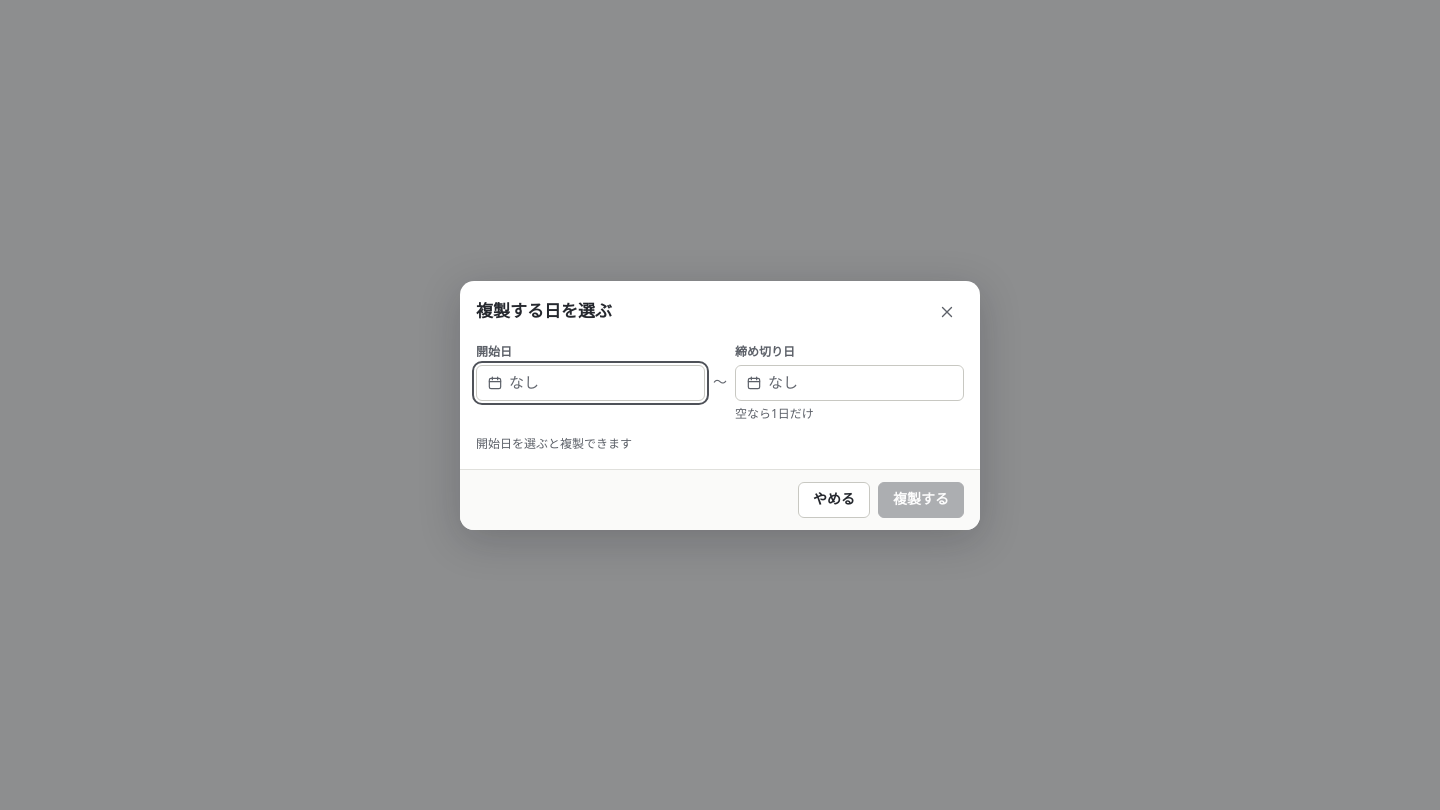
Test: 複製する日を選ぶ（12.7） › 締め切り日を開始日より前にすると開始日もそろえる（6.3）
The image size is (1440, 810).
Click the button with test id "dup-start" at [590, 382], box [476, 364, 705, 400]
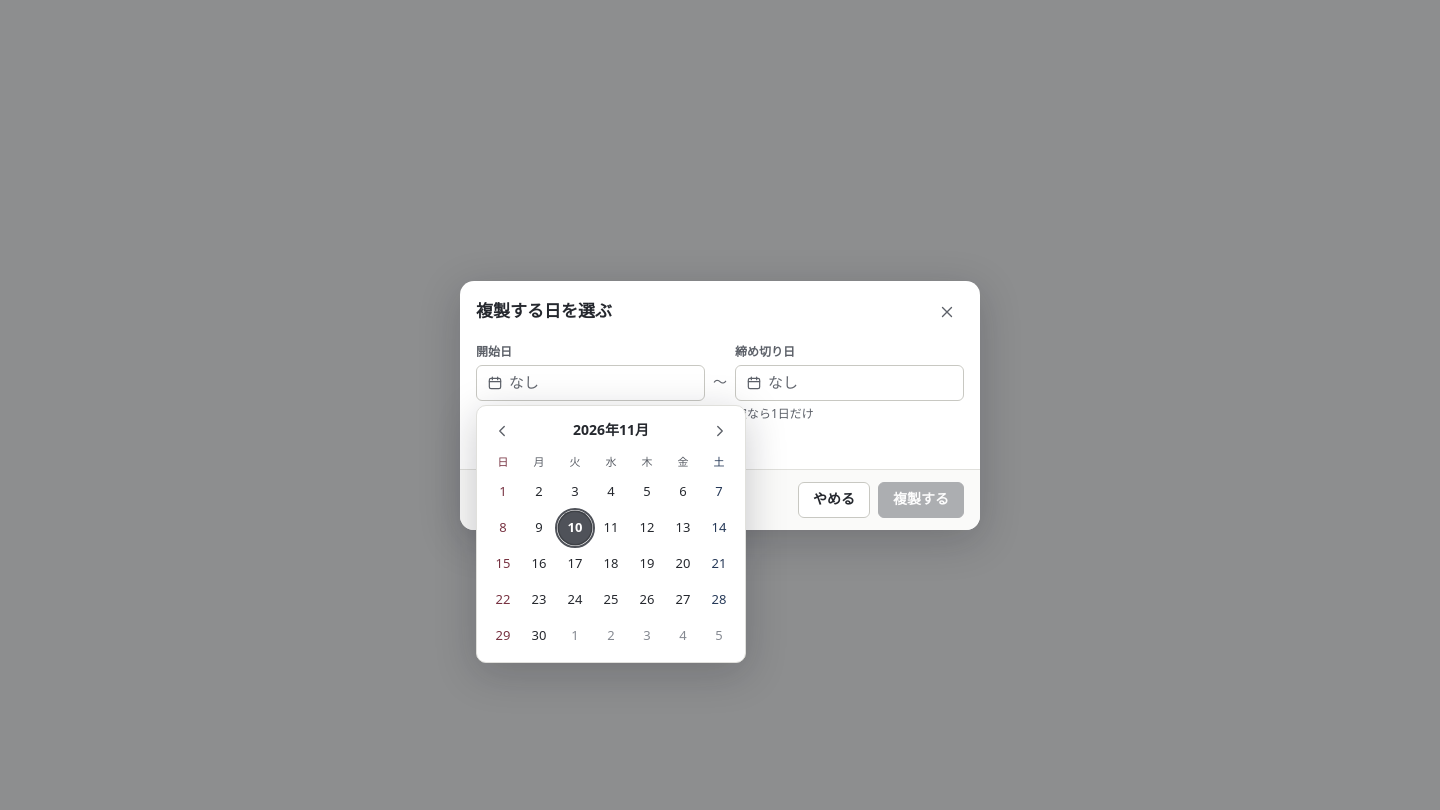
Click the button "17" at [575, 564], box [559, 548, 591, 580]
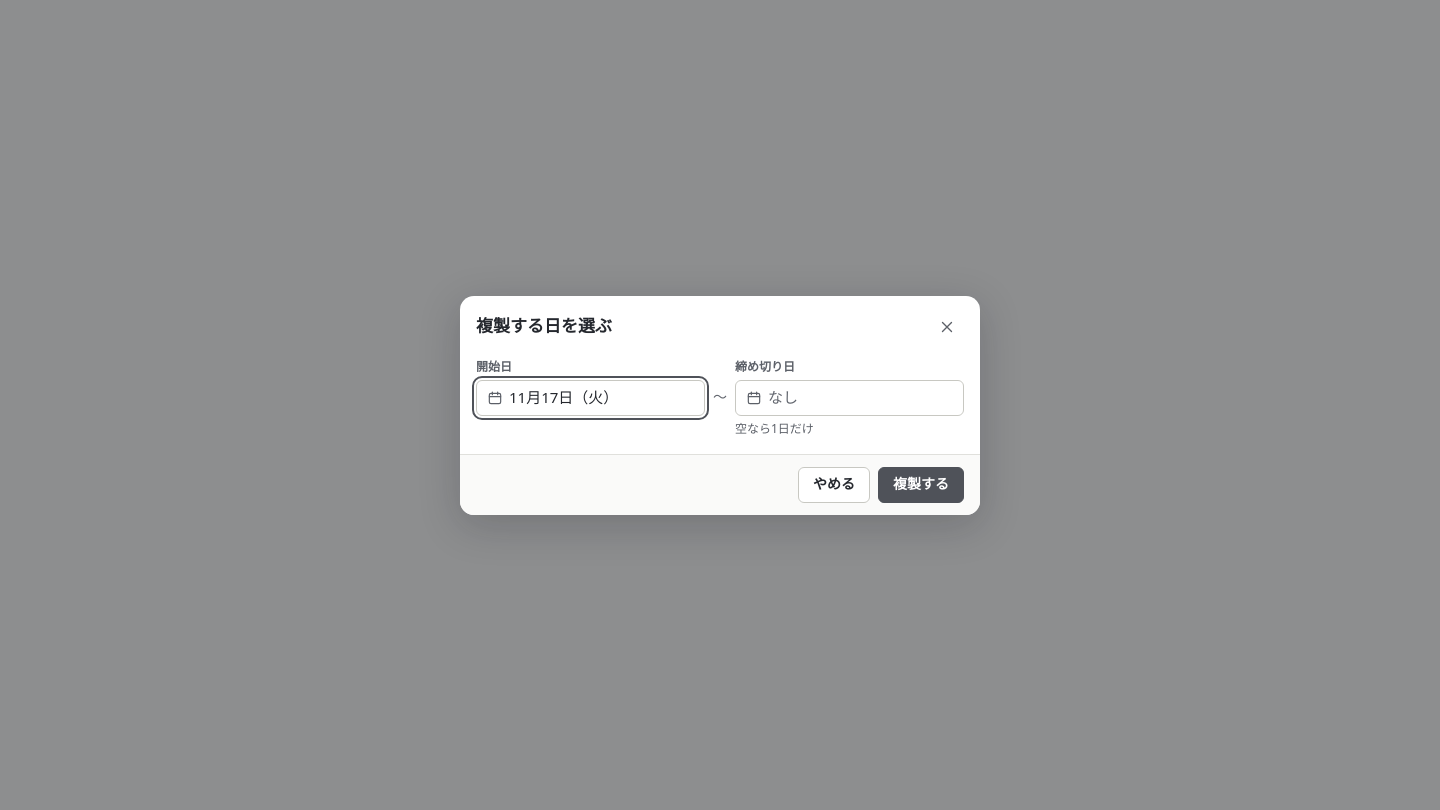
Click the button with test id "dup-due" at [850, 398], box [735, 380, 964, 416]
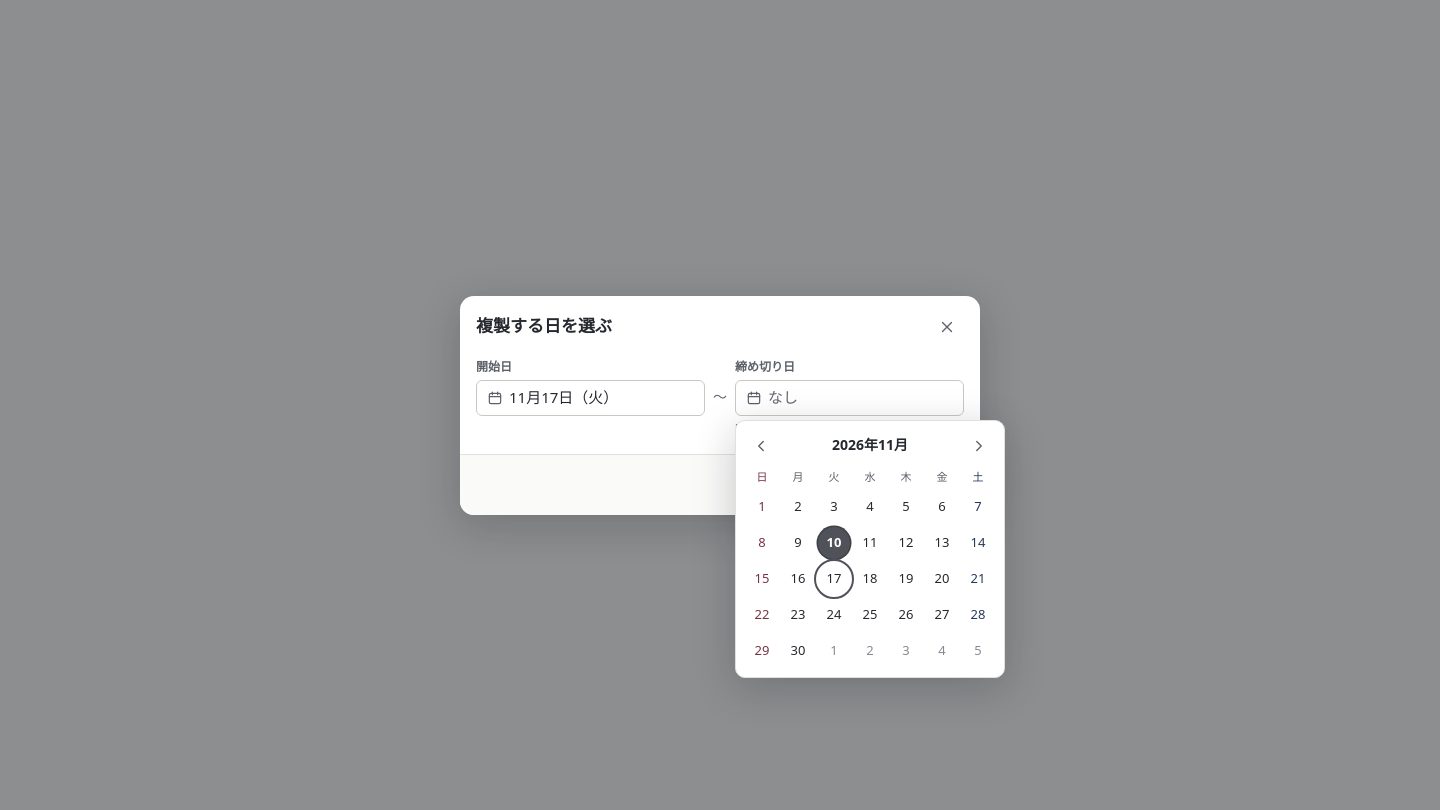
Click the button "15" at [762, 578], box [746, 562, 778, 594]
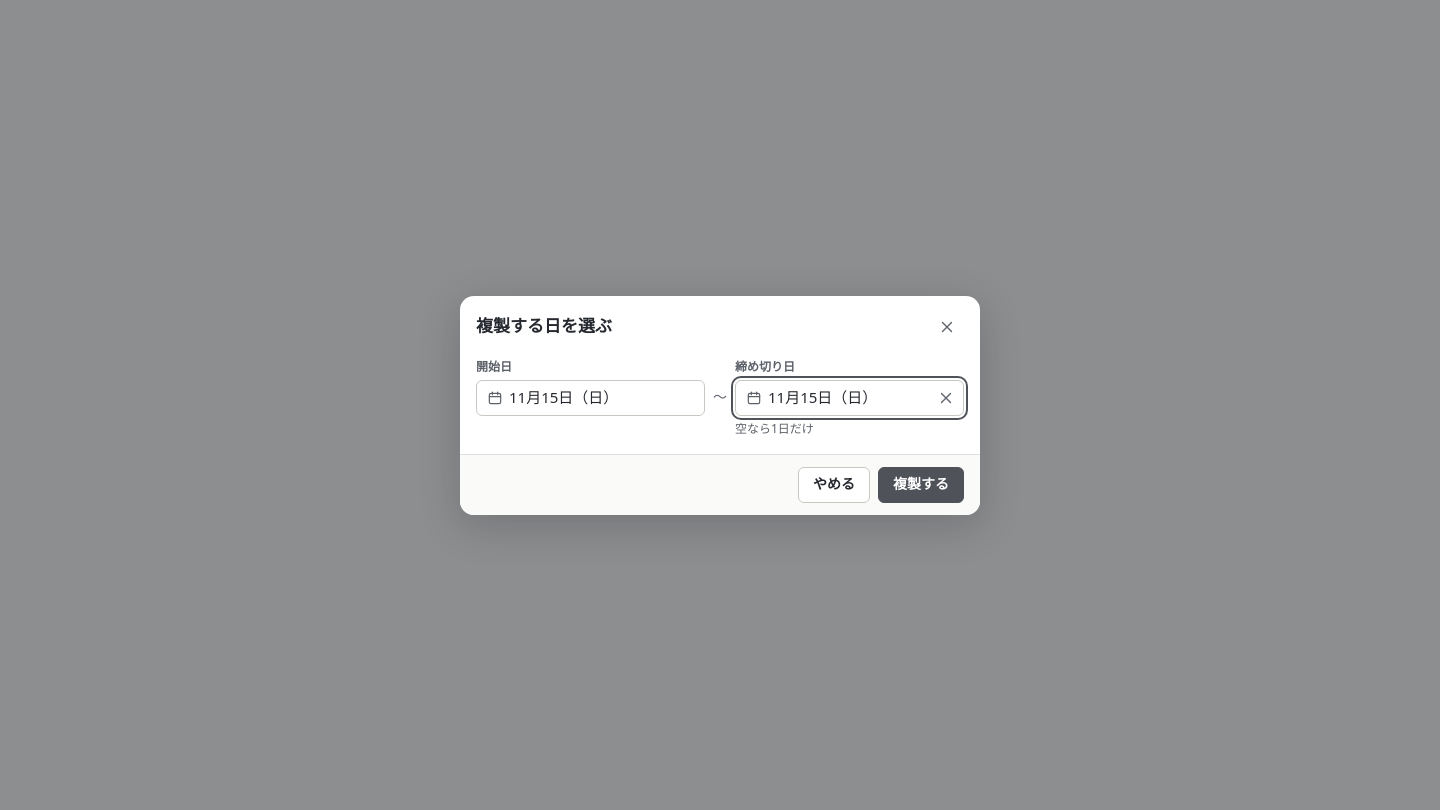
Check: the button with test id "dup-start" reads "11月15日（日）", box [476, 380, 705, 416]
Check: the button with test id "dup-due" reads "11月15日（日）", box [735, 380, 964, 416]
